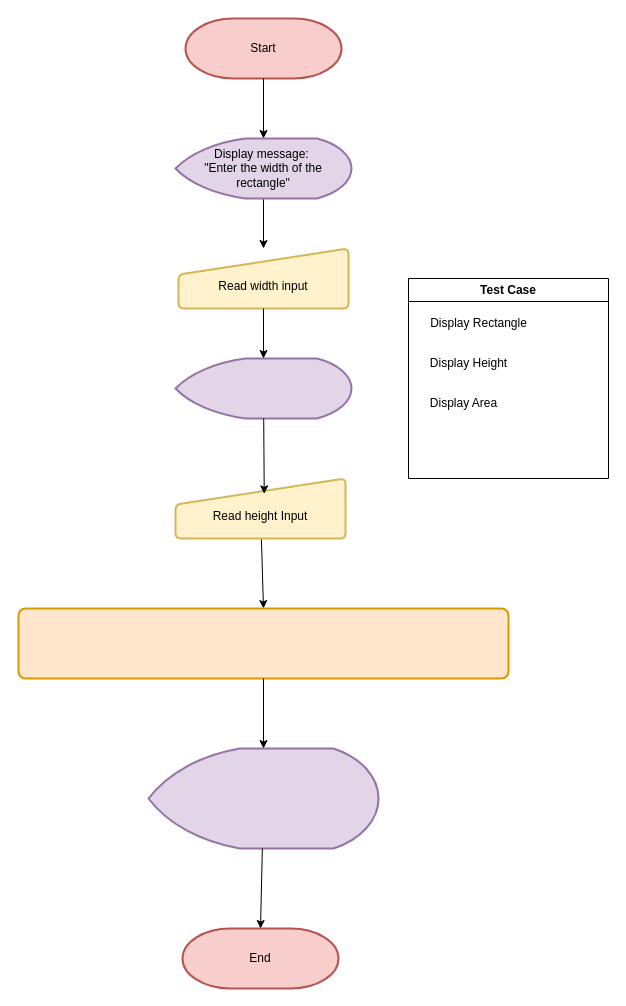
This 626x1006 diagram has some shape labels left out. Here are the shapes that lost their labels. From the top down, the centre of each, then its label:
(x=263, y=388): Display message: "Enter the height the rectangle"
(x=263, y=643): Calculate area: area = width * height
(x=263, y=798): Display message "The area of the rectangle is" , Area
